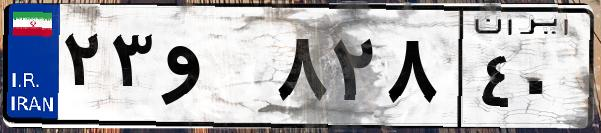0: (525, 38, 570, 115)
2: (330, 28, 385, 110), (57, 26, 110, 100)
3: (110, 28, 158, 98)
4: (475, 38, 525, 113)
8: (270, 28, 330, 110), (385, 28, 445, 110)
و: (158, 20, 270, 120)
